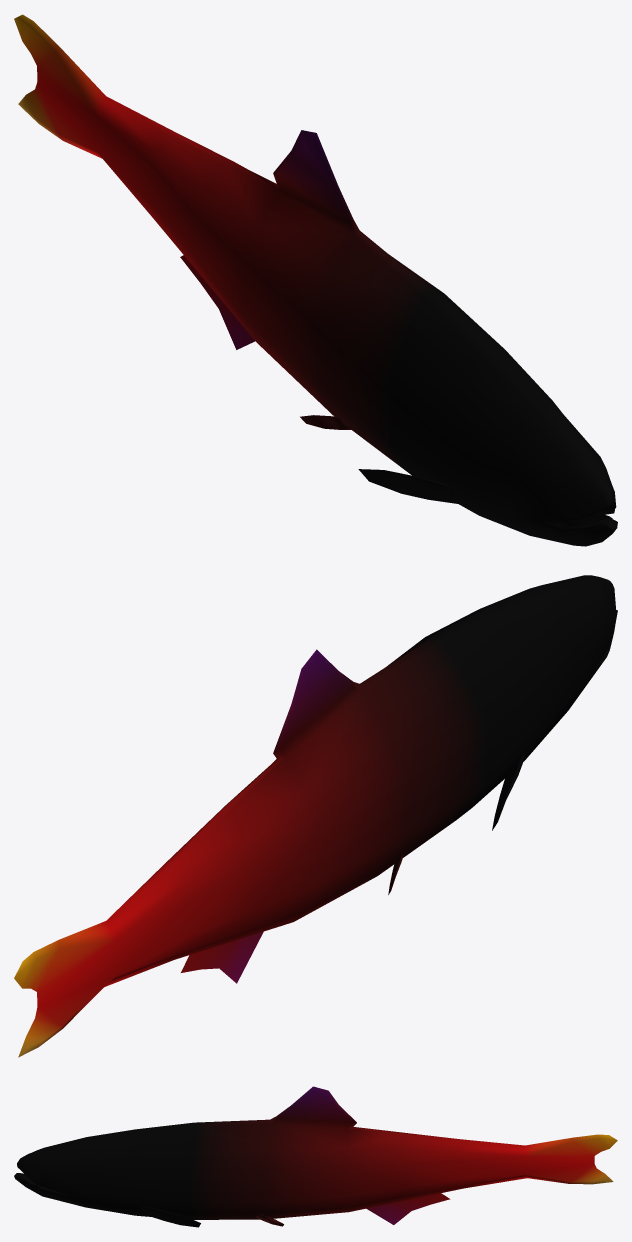
3 renders of one model, top to bottom at view 1: azimuth 30°, elevation 25°; view 2: azimuth 150°, elevation 25°; view 3: azimuth 270°, elevation 25°, orthographic. The views are drawn at different scales.
Parts seen in each view (by area): view 1: european anchovy_final; view 2: european anchovy_final; view 3: european anchovy_final.
Part boxes in pixels (<box>): european anchovy_final: <box>14,14,617,546</box>; european anchovy_final: <box>14,575,617,1057</box>; european anchovy_final: <box>14,1086,617,1227</box>.
Bounding box in the file's own units: 0.0173 × 0.0327 × 0.1291.
